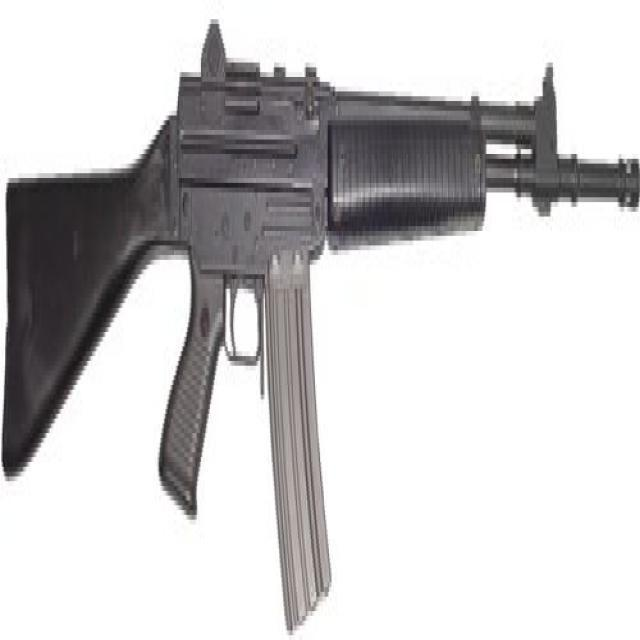gun-knife-thesis - v11 Yolov5 augmented: (22, 19, 633, 635)
